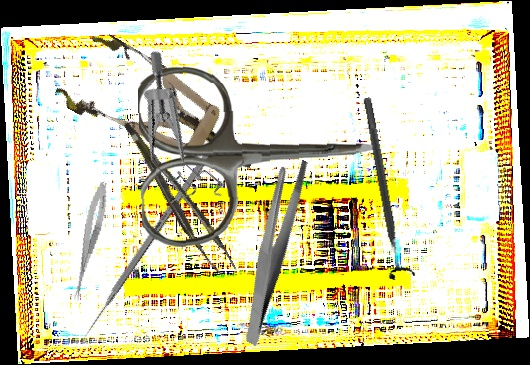Dressing Forceps: (198, 151, 348, 348)
Fixation Ring: (353, 95, 417, 281)
Iris Scissors: (136, 60, 376, 248)
Micro Scissor: (69, 180, 112, 303)
Pusher: (76, 147, 214, 347)
Speculum: (51, 25, 273, 202), (94, 47, 264, 217)
Tissue Forceps: (123, 110, 238, 285)
